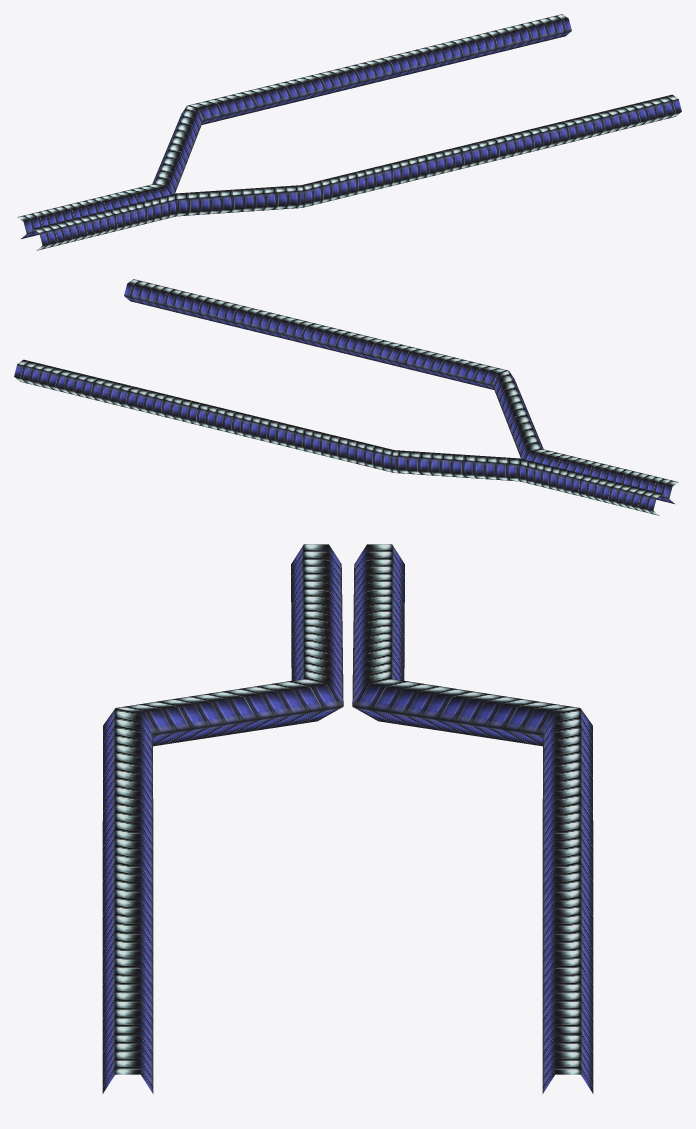
The model's file is pipe00001.glb.
3 renders of one model, top to bottom at view 1: azimuth 30°, elevation 25°; view 2: azimuth 150°, elevation 25°; view 3: azimuth 270°, elevation 25°, orthographic. The views are drawn at different scales.
Visible parts, largest first — view 1: pipe00001; view 2: pipe00001; view 3: pipe00001.
Part boxes in pixels (x1,y1,x2,y2): pipe00001: (17, 14, 681, 250); pipe00001: (14, 279, 678, 515); pipe00001: (102, 544, 593, 1093).
Size of the model in its own units: 3193 by 226 by 1145.
1 material, 1 textured.
